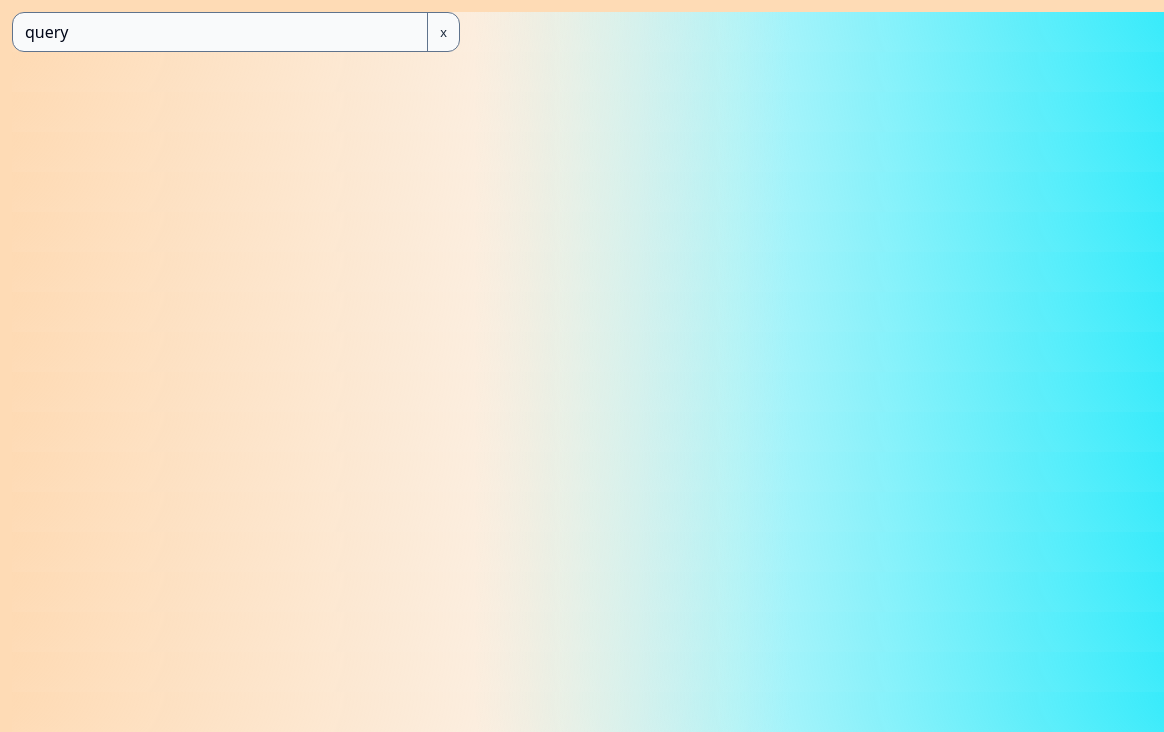
Test: SearchInput › очистка › клик по Clear очищает поле, вызывает onValueChange("") и onClear
The image size is (1164, 732).
Click the button named "Clear search": click(443, 32) [427,13,459,51]
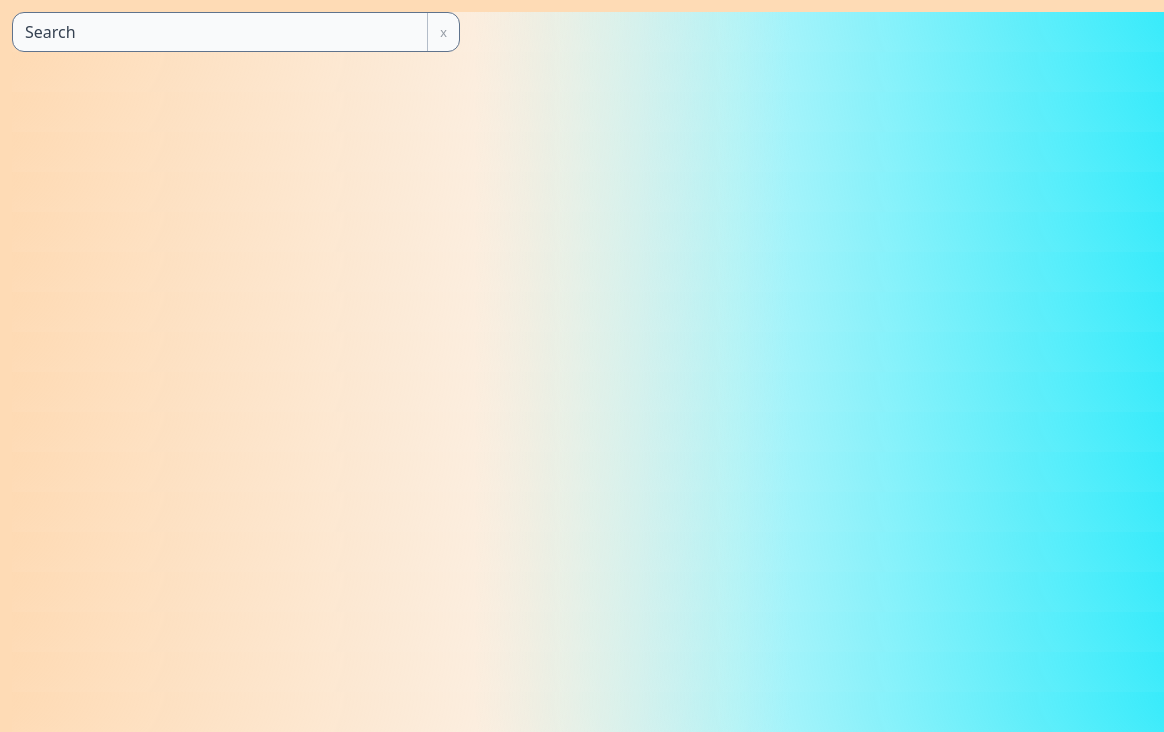
Expected: the search field named "Find" is empty, [13,13,427,51]
